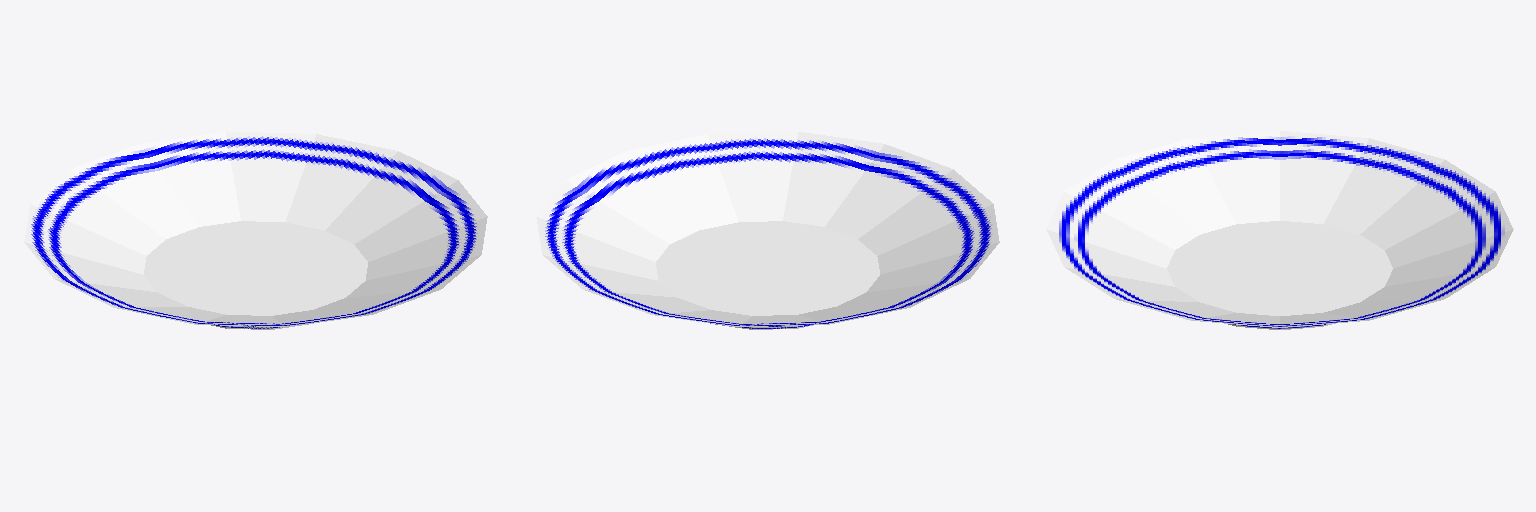
3 renders of one model, left to right at view 1: azimuth 30°, elevation 25°; view 2: azimuth 150°, elevation 25°; view 3: azimuth 270°, elevation 25°, orthographic.
Visible parts, largest first — view 1: Circle; view 2: Circle; view 3: Circle.
Part boxes in pixels (bbox=[...]): Circle: bbox=[24, 132, 487, 329]; Circle: bbox=[536, 132, 999, 329]; Circle: bbox=[1046, 131, 1513, 329].
Size of the model in its own units: 2.06 by 0.2587 by 2.06.
1 materials, 1 textured.